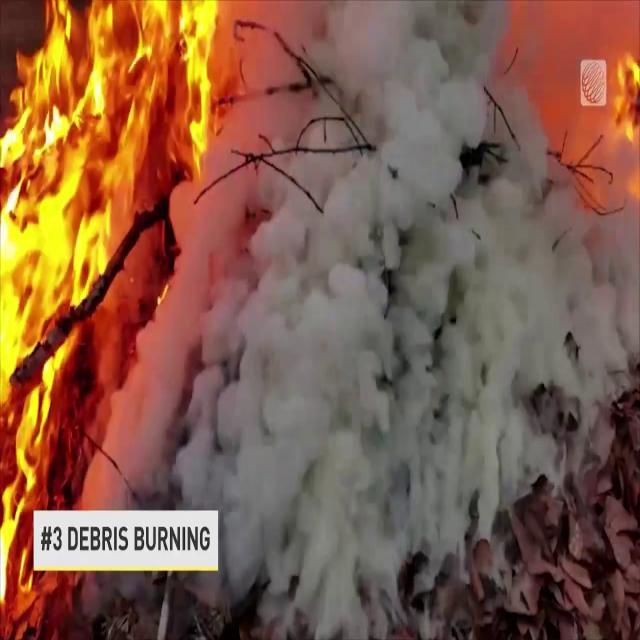Fire: (0, 1, 228, 610)
Smoke: (196, 1, 640, 622)
